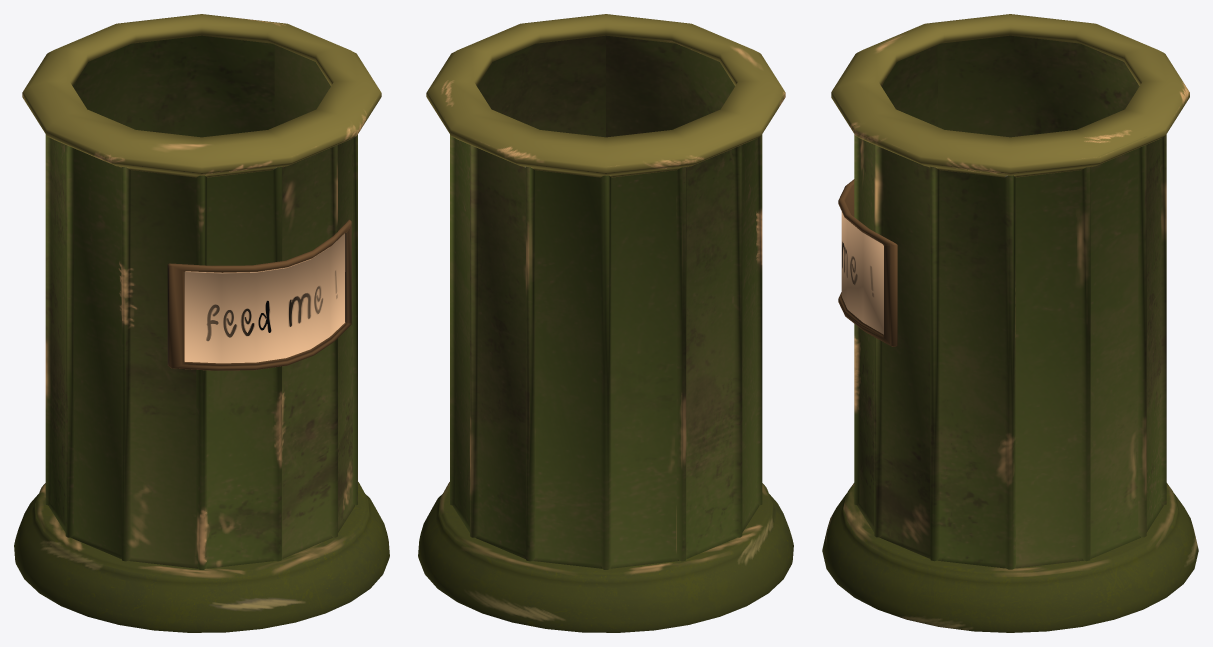
File: trashcan2.fbx
3 renders of one model, left to right at view 1: azimuth 30°, elevation 25°; view 2: azimuth 150°, elevation 25°; view 3: azimuth 270°, elevation 25°, orthographic.
Parts seen in each view (by area): view 1: TRASHTOP, TRASHBOTTOM, Cube; view 2: TRASHTOP, TRASHBOTTOM; view 3: TRASHTOP, TRASHBOTTOM, Cube.
Part boxes in pixels (<box>): TRASHTOP: <box>22,14,381,569</box>; TRASHBOTTOM: <box>14,482,389,632</box>; Cube: <box>167,219,351,370</box>; TRASHTOP: <box>426,14,785,569</box>; TRASHBOTTOM: <box>418,482,793,632</box>; TRASHTOP: <box>831,14,1189,569</box>; TRASHBOTTOM: <box>822,483,1198,632</box>; Cube: <box>838,179,897,346</box>.
Bounding box in the file's own units: 241 × 333 × 241.
